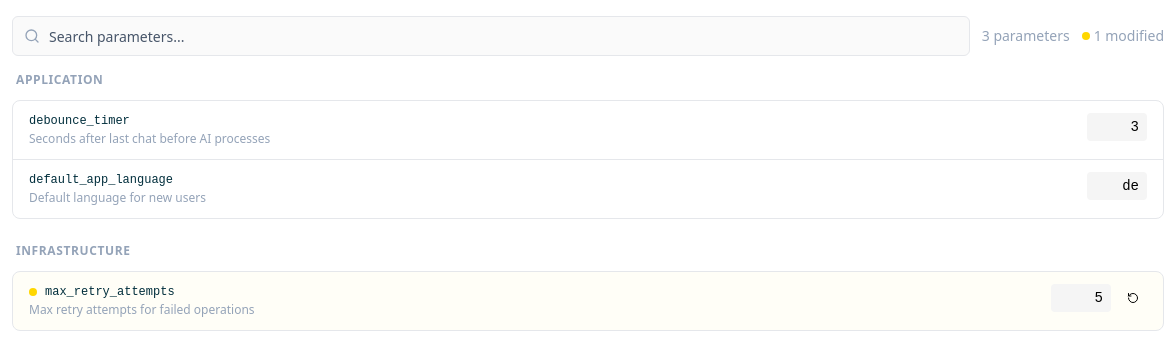
it: ParametersTab — UI-ADMIN.02: Parameters tab shows editable fields › cancels editing on Escape key
The image size is (1176, 348).
Double-click the button with test id "value-debounce_timer" at (1117, 127), box [1087,113,1147,141]
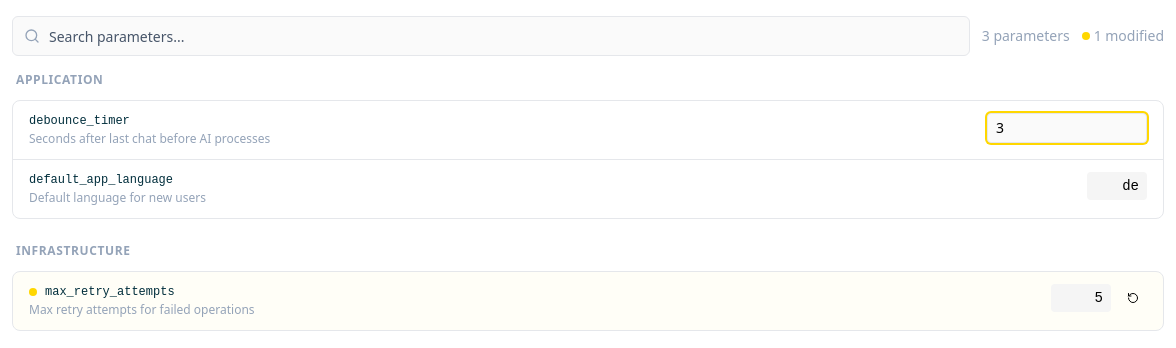
Expected: the field with test id "edit-input-debounce_timer" is shown, [987,113,1147,143]
Press Escape
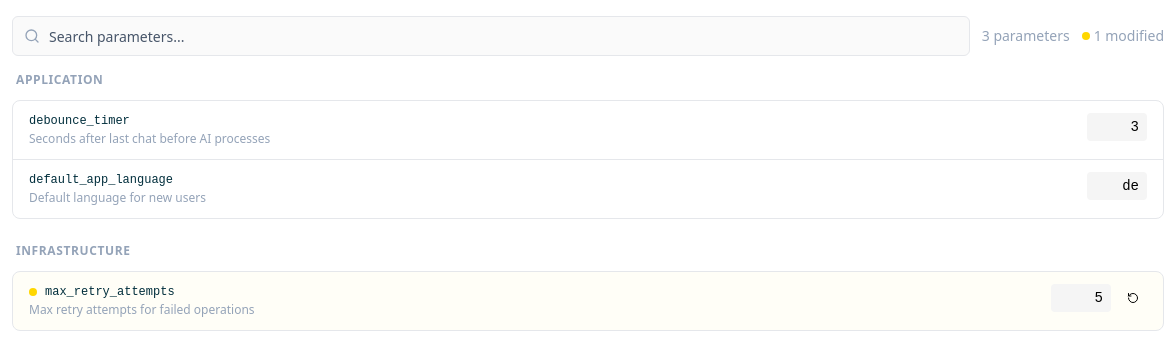
Expected: the field with test id "edit-input-debounce_timer" is gone
Expected: the button with test id "value-debounce_timer" reads "3", [1087,113,1147,141]
